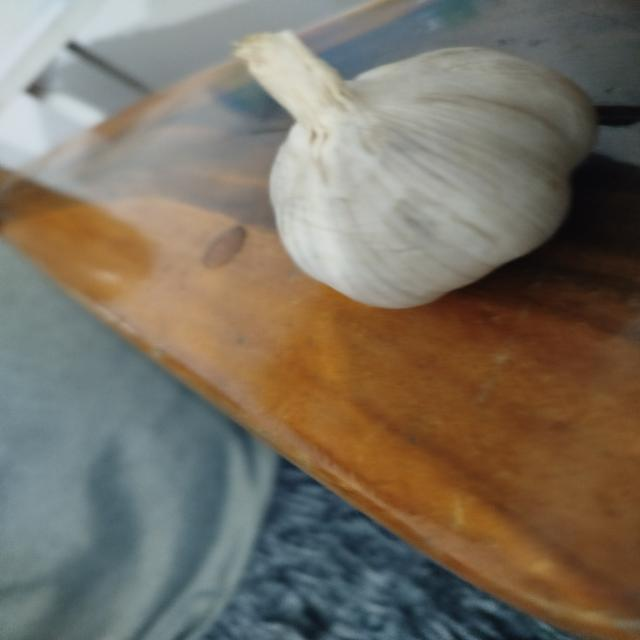garlic: (233, 28, 599, 310)
